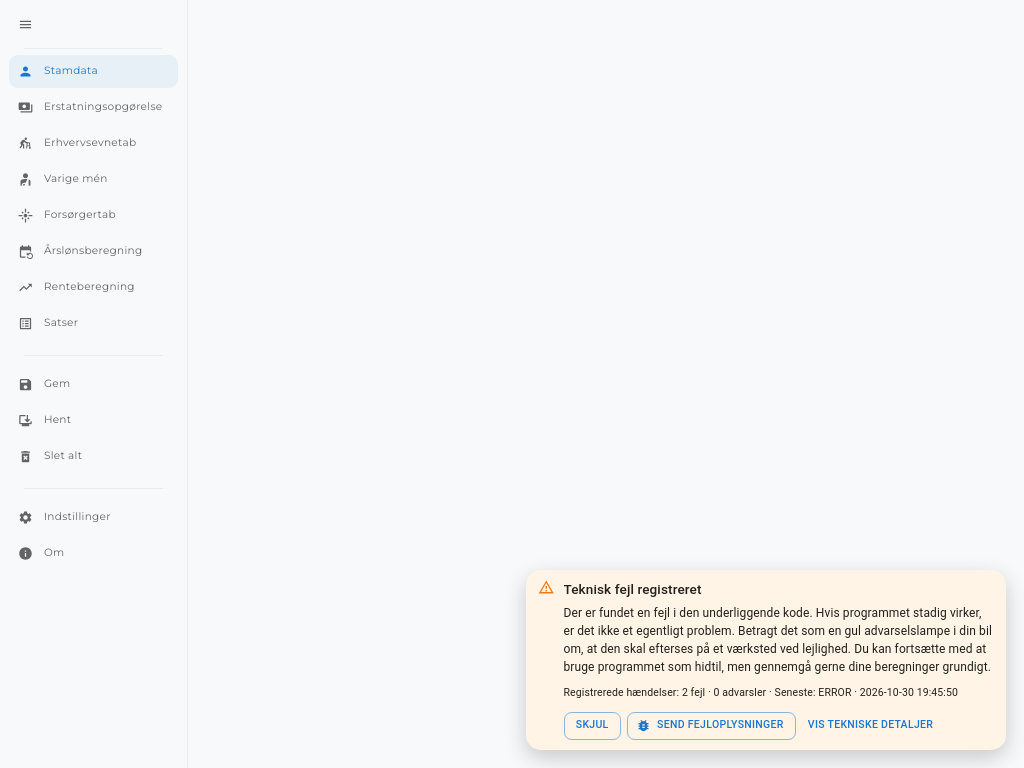
MainLayout – overlayet ejer Ctrl+S (BB-050) › virker igen, når dialogen er lukket
This screenshot has width=1024, height=768.
Click the button "Slet alt".
click(93, 456)  # box [9,440,178,473]
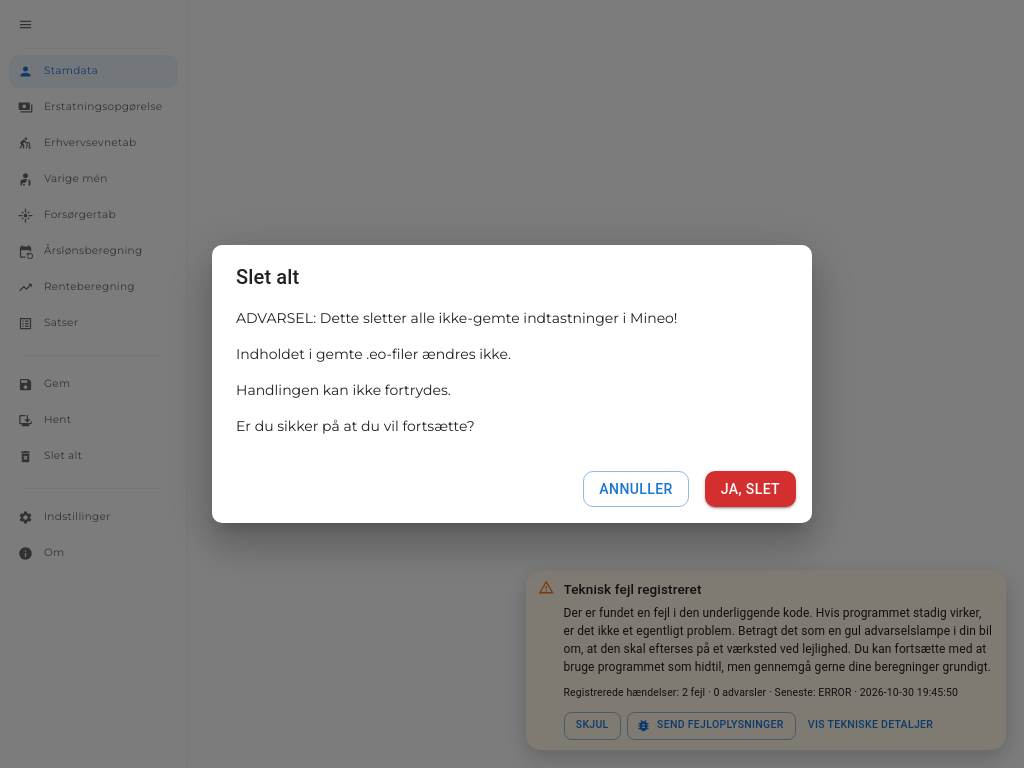
Expected: the dialog is shown, [212,245,812,523]
Click the button "Annuller".
click(636, 489)  # box [583,471,689,507]
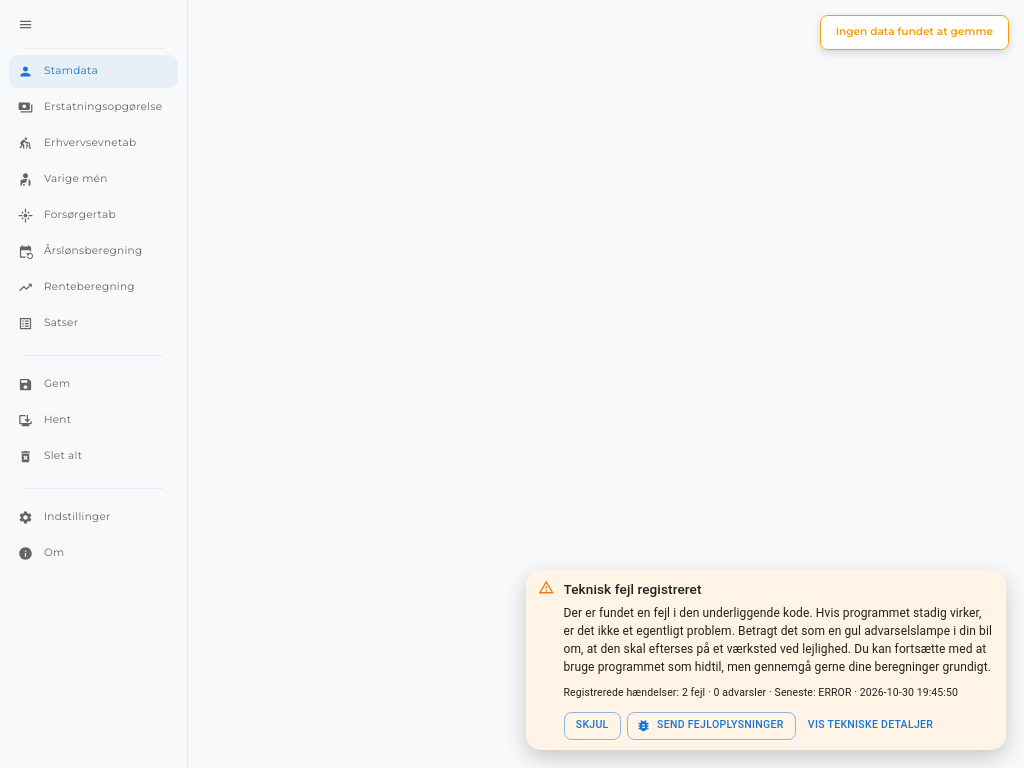
Expected: the dialog is gone
Expected: the text "Ingen data fundet at gemme" is shown, [836,25,993,40]
